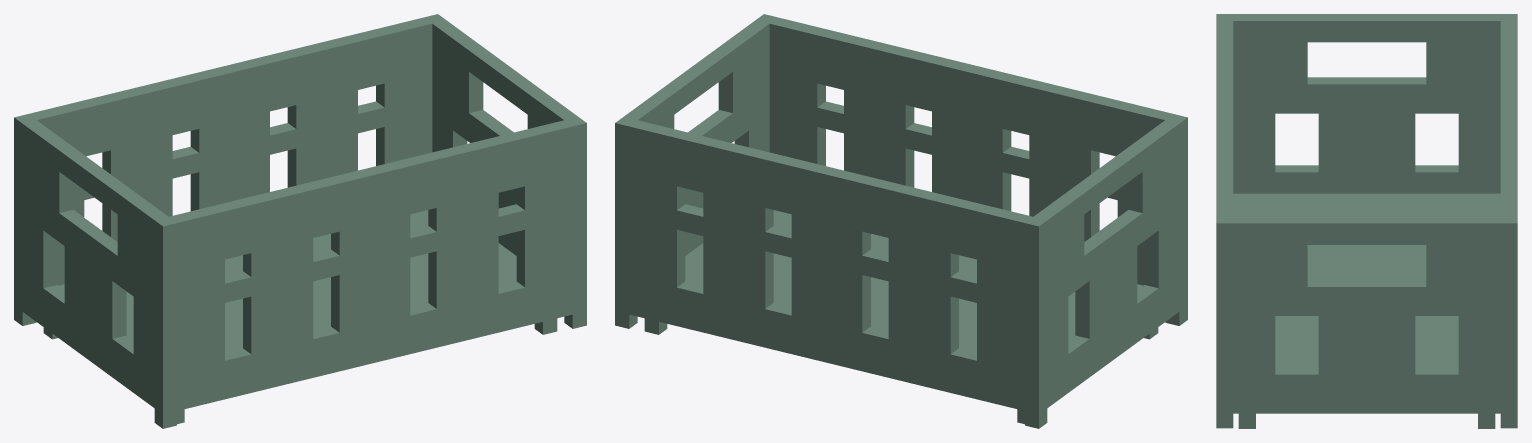
3 views of the same model, side by side, from view 1: azimuth 30°, elevation 25°; view 2: azimuth 150°, elevation 25°; view 3: azimuth 270°, elevation 25° (orthographic).
Visible parts, largest first — view 1: Crate continuous ventilated shell feet and locator tongues; view 2: Crate continuous ventilated shell feet and locator tongues; view 3: Crate continuous ventilated shell feet and locator tongues.
Part boxes in pixels (<box>): Crate continuous ventilated shell feet and locator tongues: <box>14,14,586,428</box>; Crate continuous ventilated shell feet and locator tongues: <box>615,14,1187,428</box>; Crate continuous ventilated shell feet and locator tongues: <box>1216,14,1517,428</box>.
Size of the model in its own units: 0.46 by 0.22 by 0.28.
